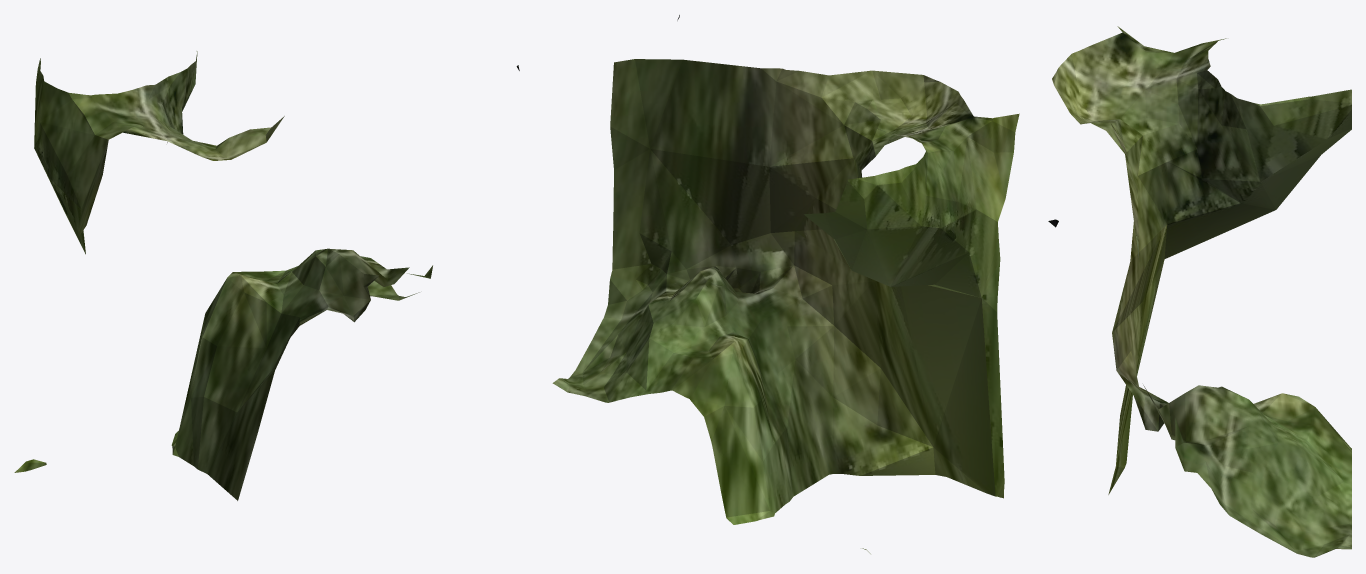
3 views of the same model, side by side, from view 1: azimuth 30°, elevation 25°; view 2: azimuth 150°, elevation 25°; view 3: azimuth 270°, elevation 25° (orthographic). The views are drawn at different scales.
Bounding box in the file's own units: 2.95 × 2.95 × 1.83.
Materials: 4 (4 with a texture image).
